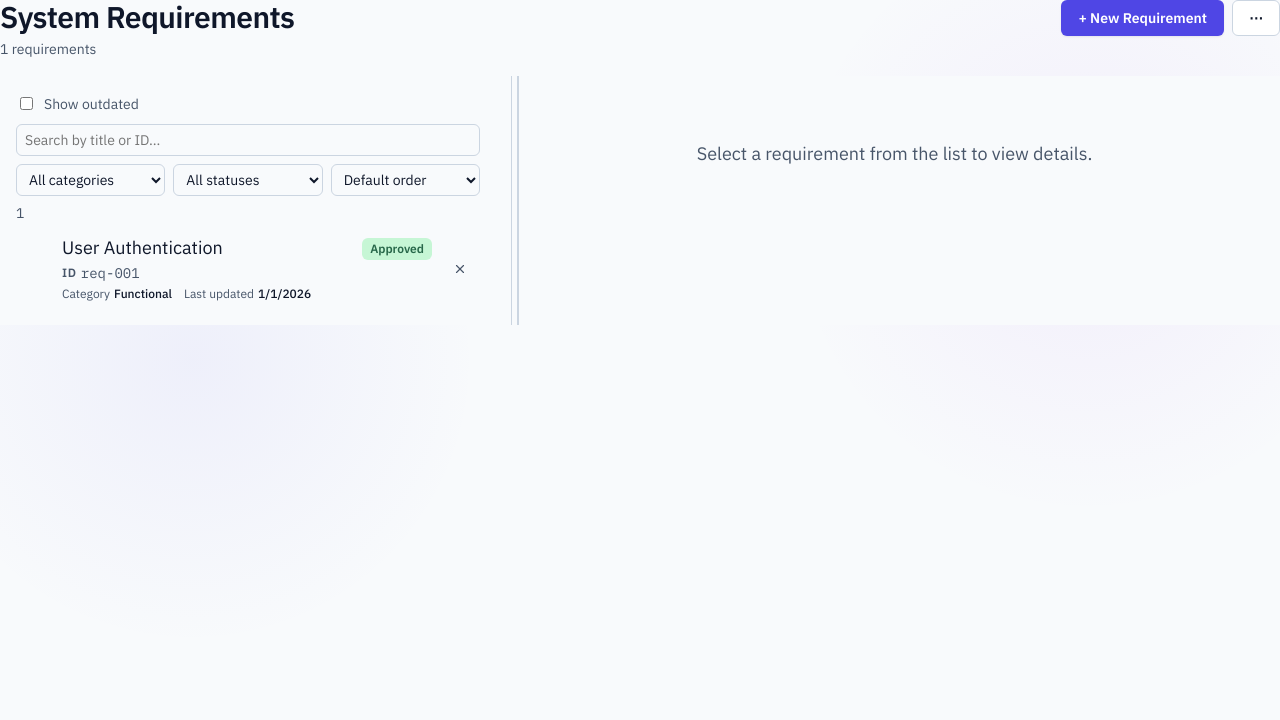
Scenario: RequirementEditors — server validation errors are visible (#339/#340) › clears the create error once the user starts correcting the title
Click the button with test id "create-req-btn": {"x": 1143, "y": 18} [1061,0,1224,36]
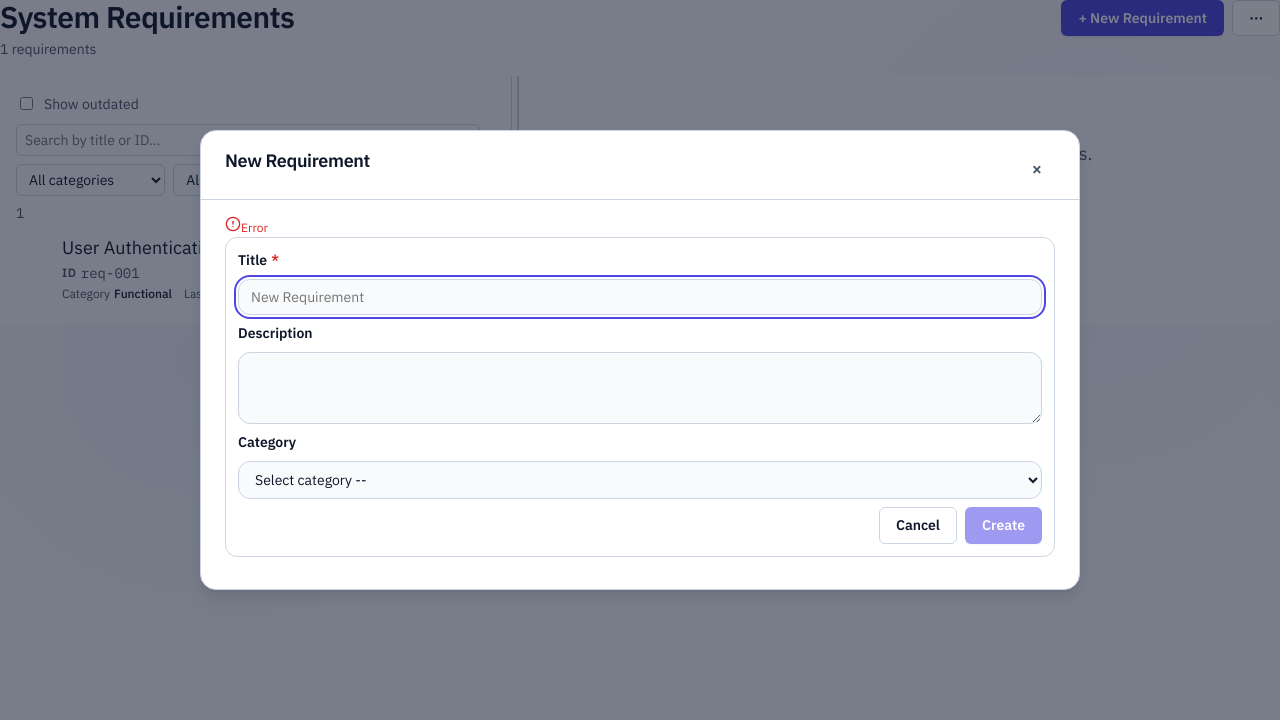
Now the form with test id "create-req-form" is shown, box [225,237,1055,557]
In the field with test id "req-new-title-input": {"x": 640, "y": 297} [238,279,1042,315], type "<b>x</b>"
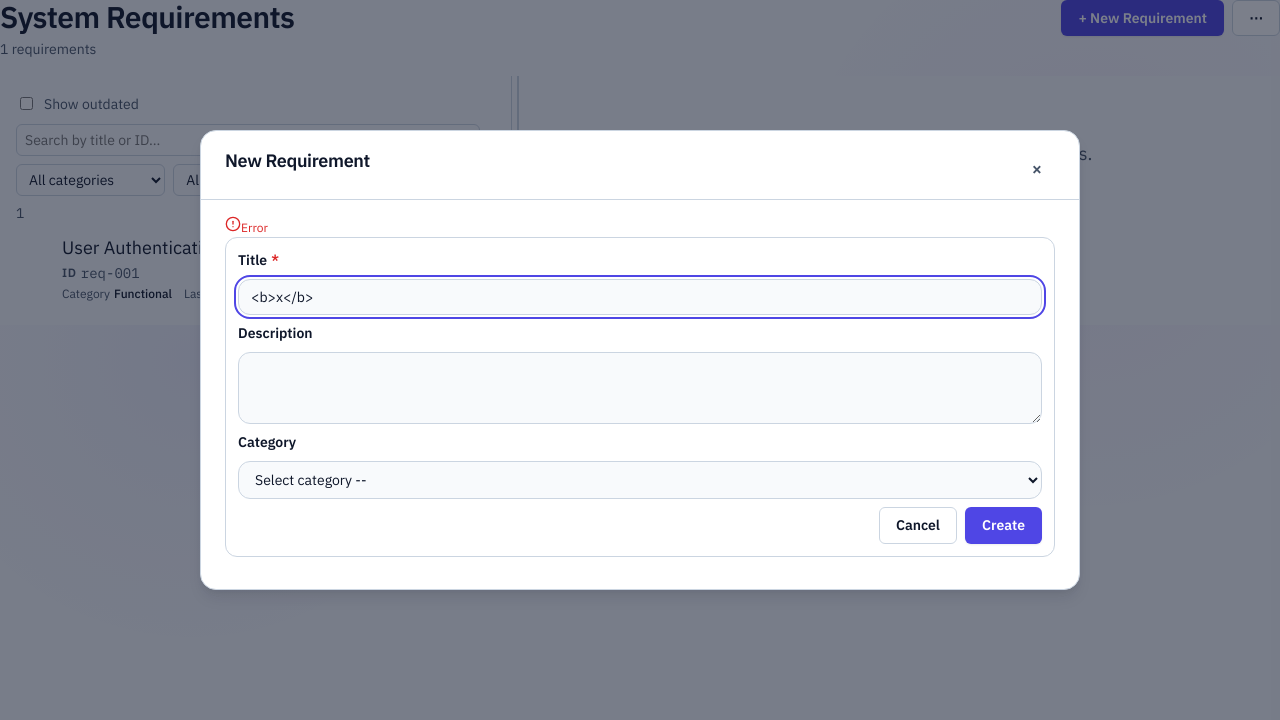
Click the button with test id "req-new-save-btn": {"x": 1004, "y": 526} [965,507,1042,544]
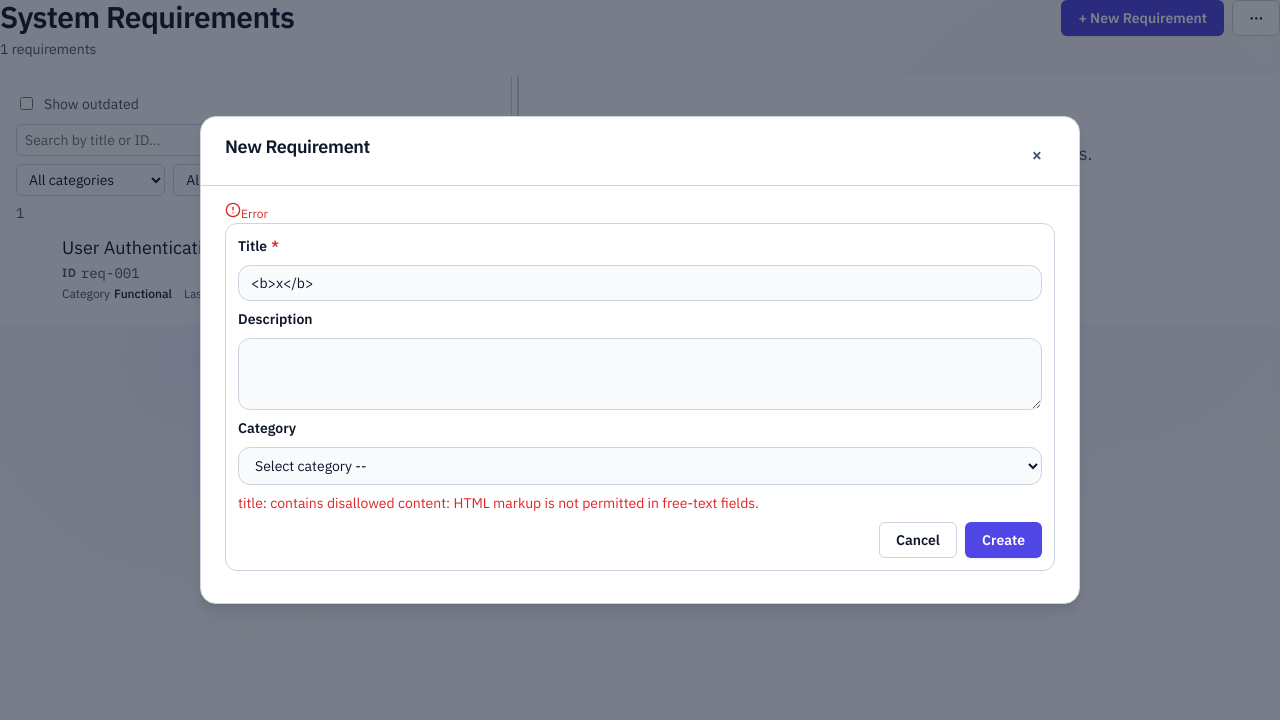
Now the message with test id "req-create-error" is shown, box [238,494,759,512]
In the field with test id "req-new-title-input": {"x": 640, "y": 283} [238,265,1042,301], type "y"
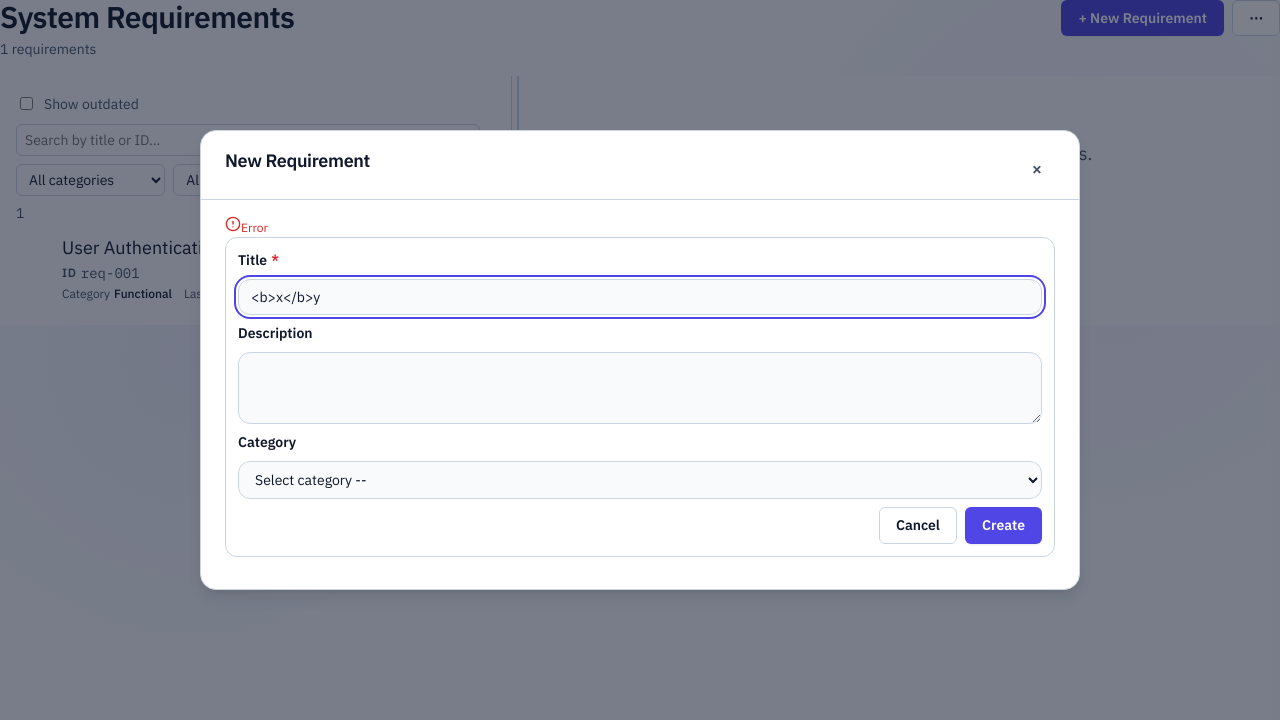
Now the message with test id "req-create-error" is gone
